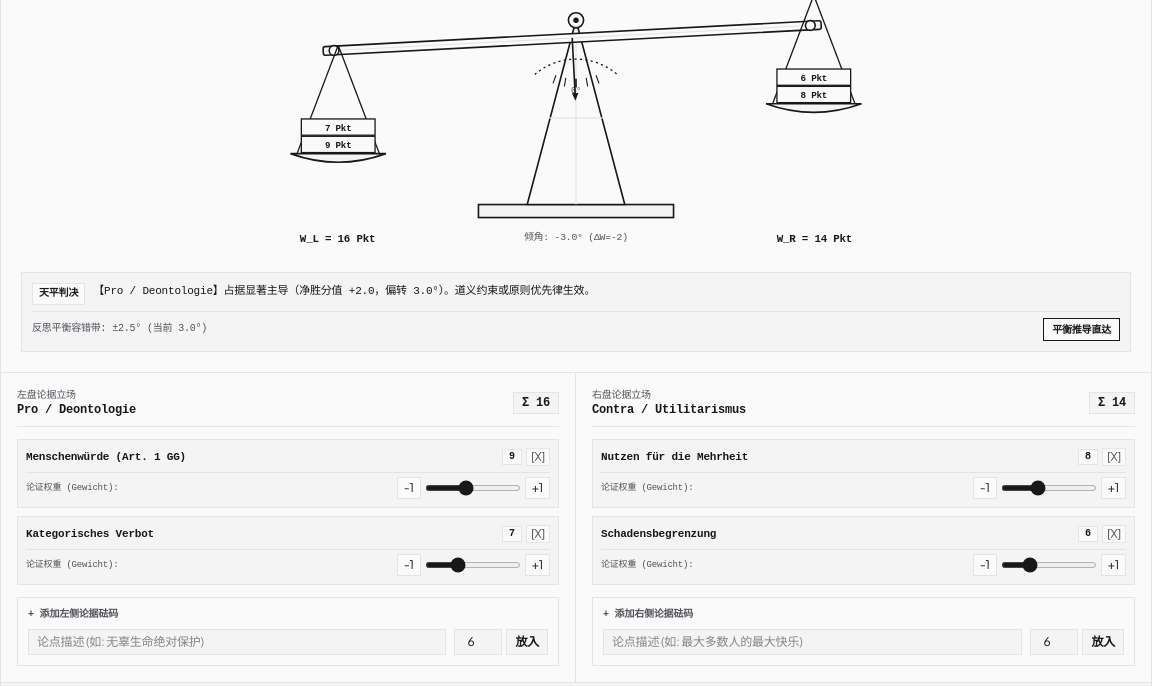
Test: Generic MicroWorld: DilemmaBalanceScale › allows adding and modifying weights on both sides
(page scrolled)
In the field with placeholder "论点描述 (如: 无辜生命绝对保护)": {"x": 237, "y": 642} x1=28 y1=629 x2=446 y2=655, type "绝对人权保障"
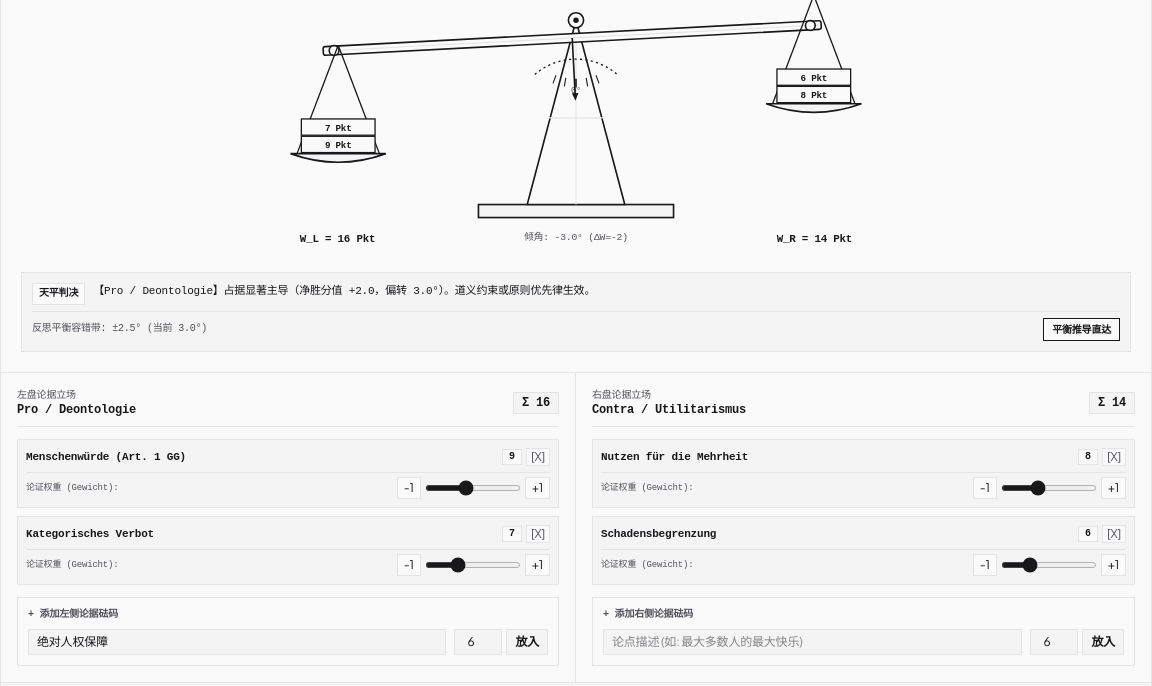
Click the 1st button "放入": {"x": 527, "y": 642} x1=506 y1=629 x2=548 y2=655
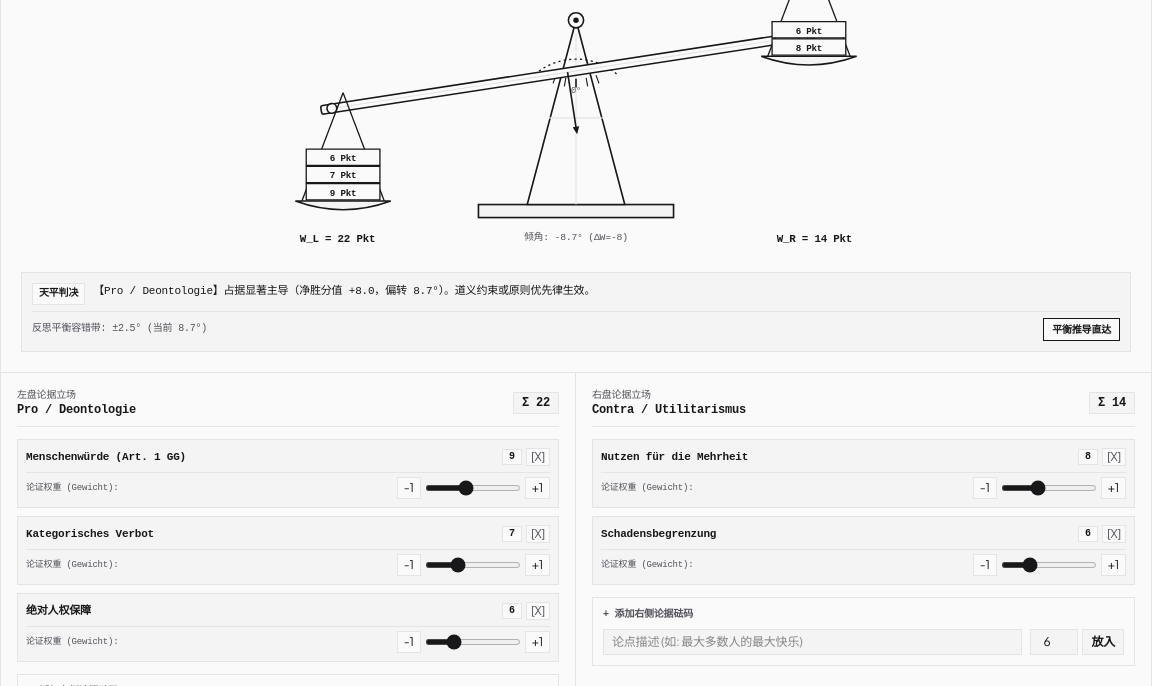
Check: the text "绝对人权保障" is shown, box x1=26 y1=604 x2=91 y2=618
